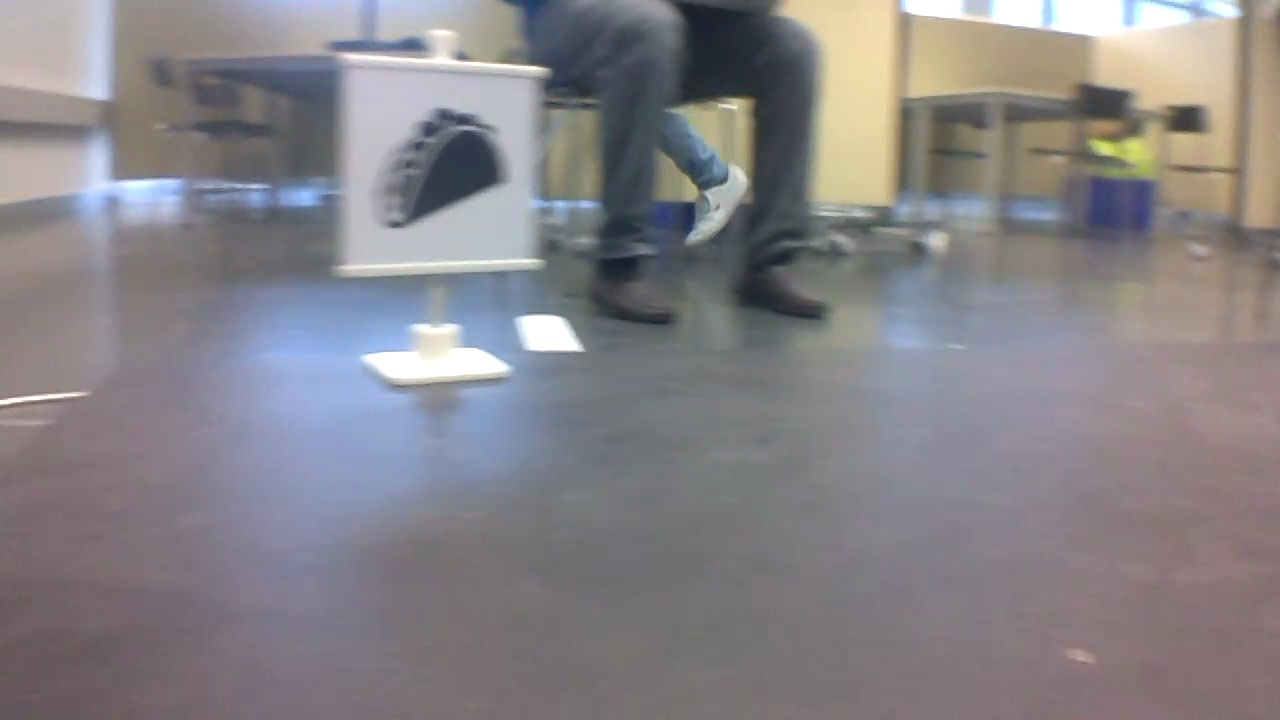taco: (367, 95, 516, 238)
